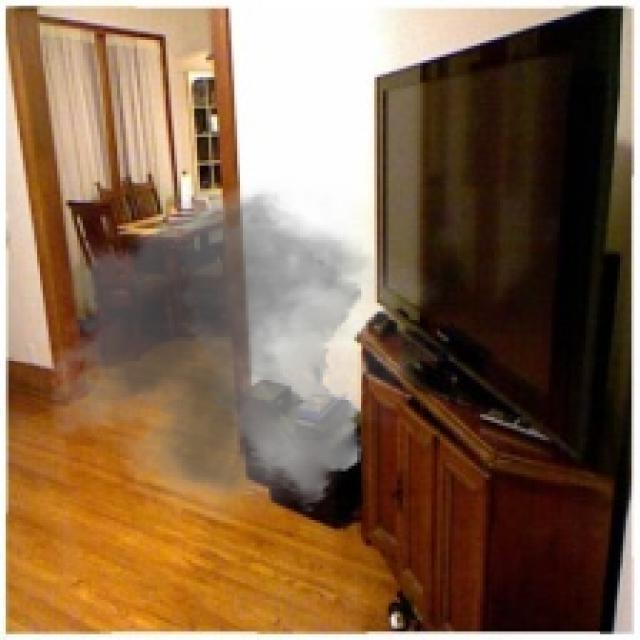Smoke: (28, 165, 446, 526)
